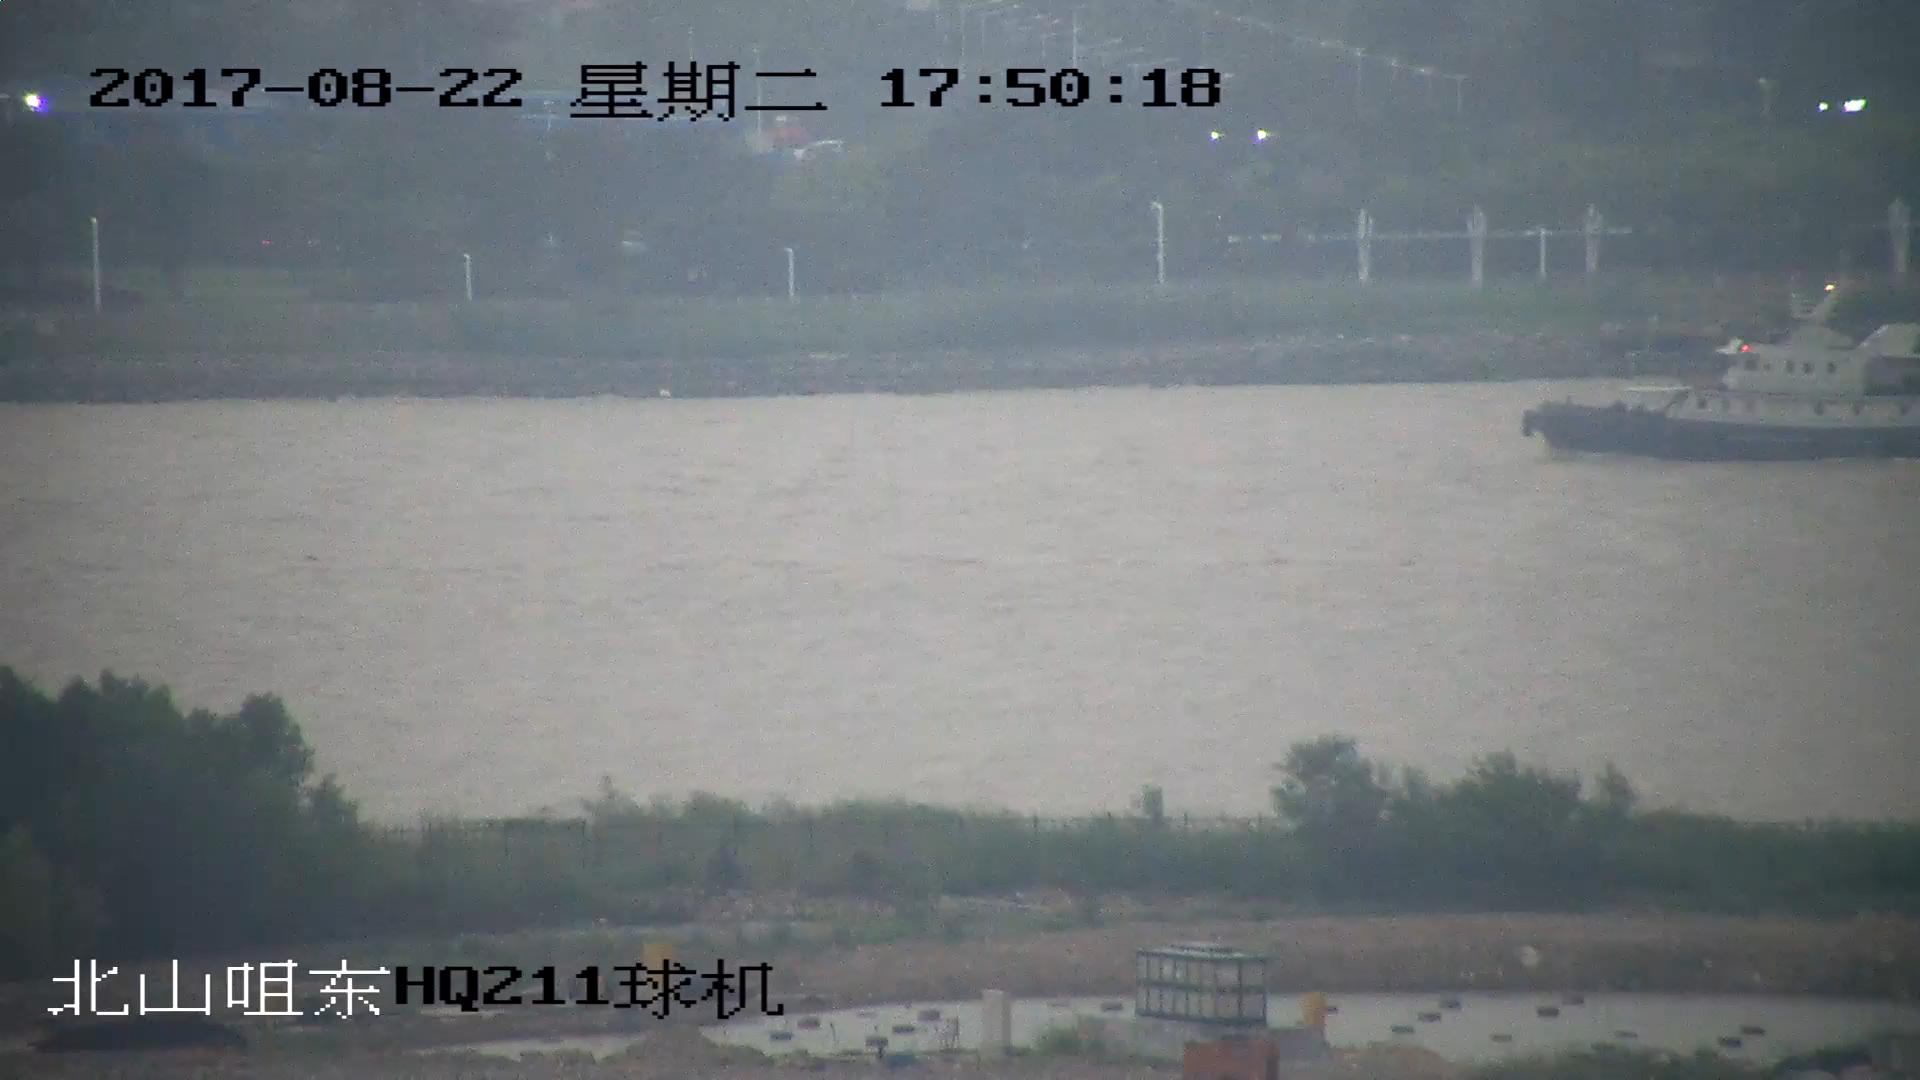passenger ship: (1526, 293, 1920, 458)
